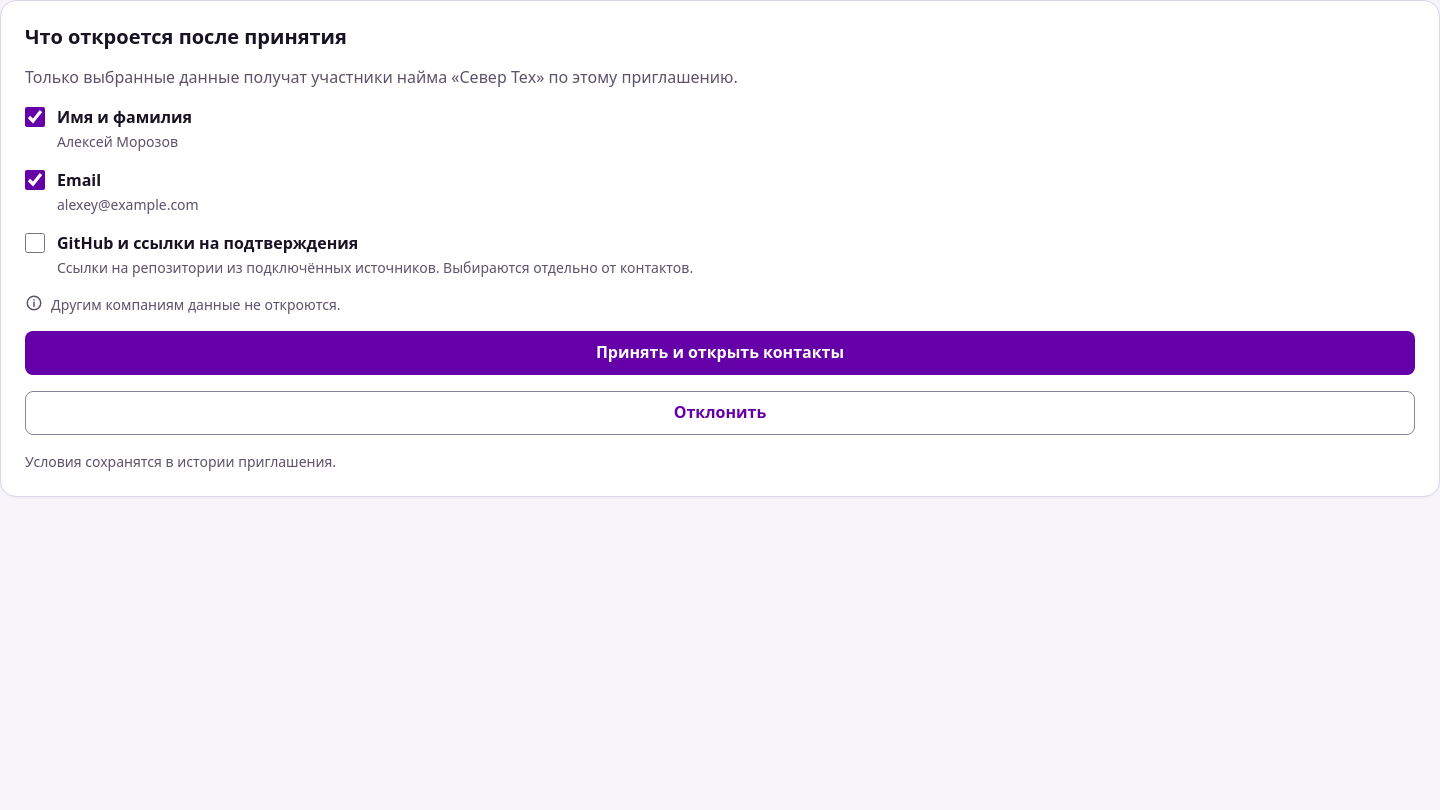
invitation decision › shows a conflict and keeps contacts closed when another tab already decided
This screenshot has width=1440, height=810.
Click the button "Принять и открыть контакты".
click(720, 353)  # box [25, 331, 1415, 375]
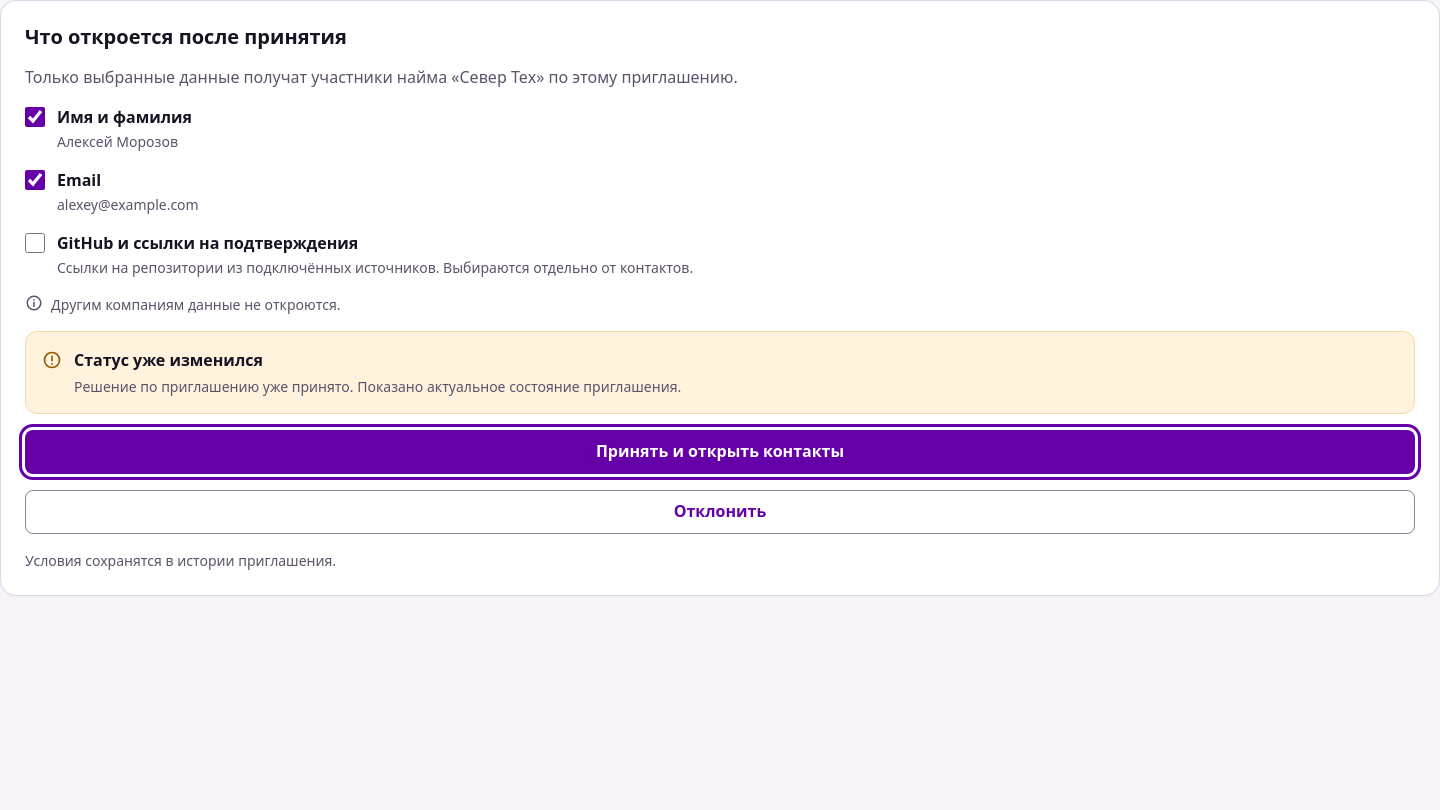
Result: the message shows "Статус уже изменился" at [74, 349, 263, 371]
